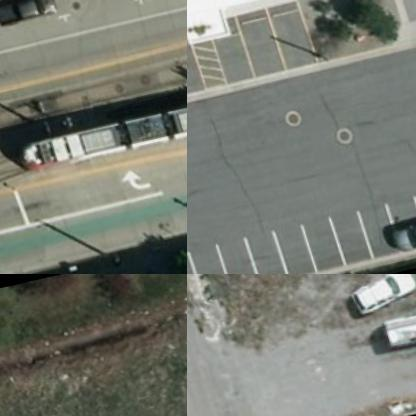car: (332, 274, 415, 319), (0, 0, 54, 32), (382, 208, 415, 254)
van: (373, 300, 415, 352)
